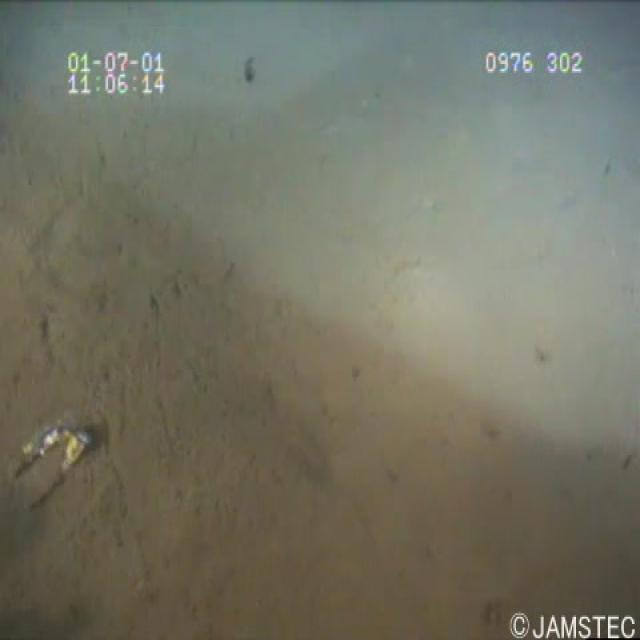plastic: (1, 395, 104, 533)
